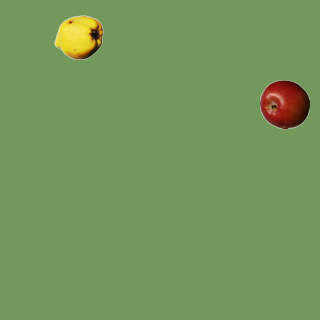Apple Braeburn: (259, 79, 309, 129)
Quince: (53, 12, 103, 62)
